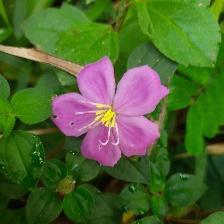malabar melastome: (51, 55, 173, 169)
